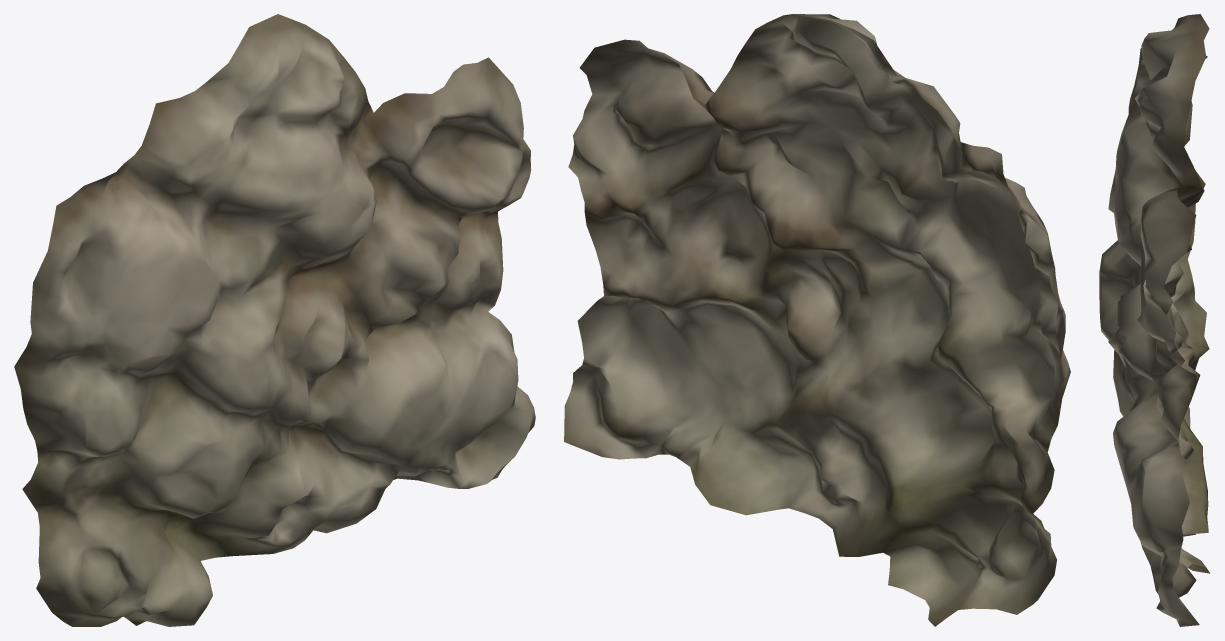
Rendered from Barnacle02.fbx.
3 renders of one model, left to right at view 1: azimuth 30°, elevation 25°; view 2: azimuth 150°, elevation 25°; view 3: azimuth 270°, elevation 25°, orthographic.
Visible parts, largest first — view 1: Barnacle02; view 2: Barnacle02; view 3: Barnacle02.
Boxes of the visible parts, x1=… form: Barnacle02: x1=14, y1=14, x2=535, y2=626; Barnacle02: x1=564, y1=14, x2=1070, y2=626; Barnacle02: x1=1099, y1=14, x2=1210, y2=626.
Bounding box in the file's own units: 52.79 × 57.37 × 10.1.
